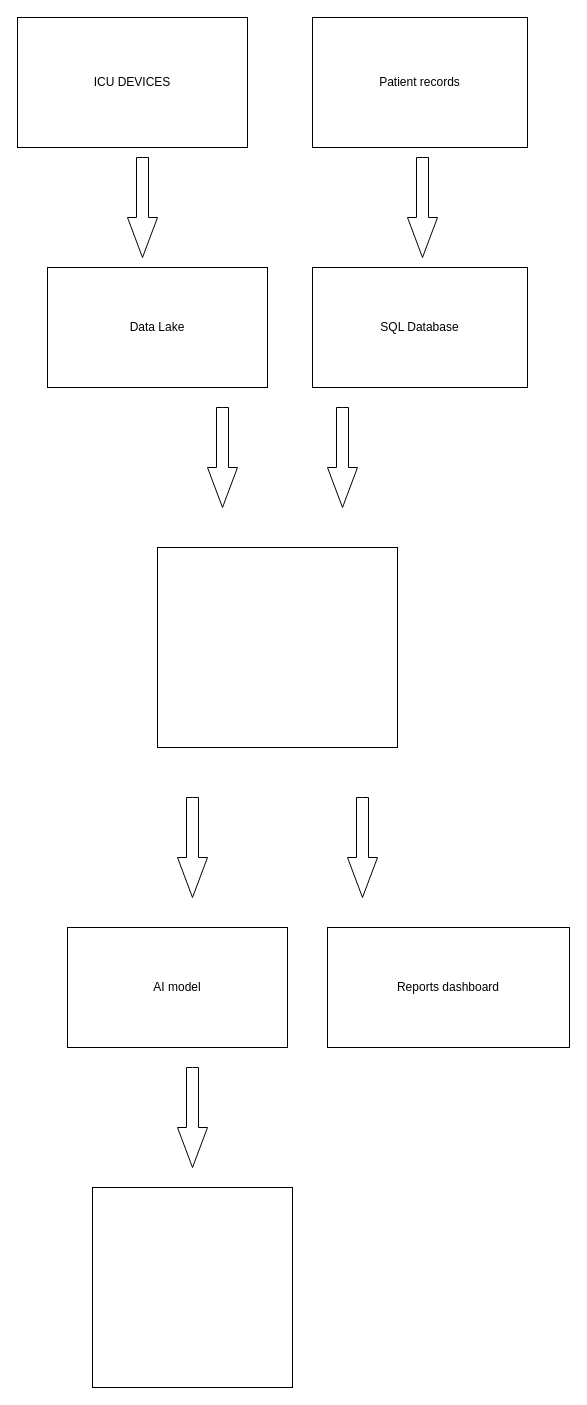
Some shapes in this 587 by 1405 pixel diagram are drawn without their labels. The centre of each missing label's shape, as x and y in pixels:
"Data Warehouse" belongs at point (277, 647).
"Vector database" belongs at point (192, 1287).
